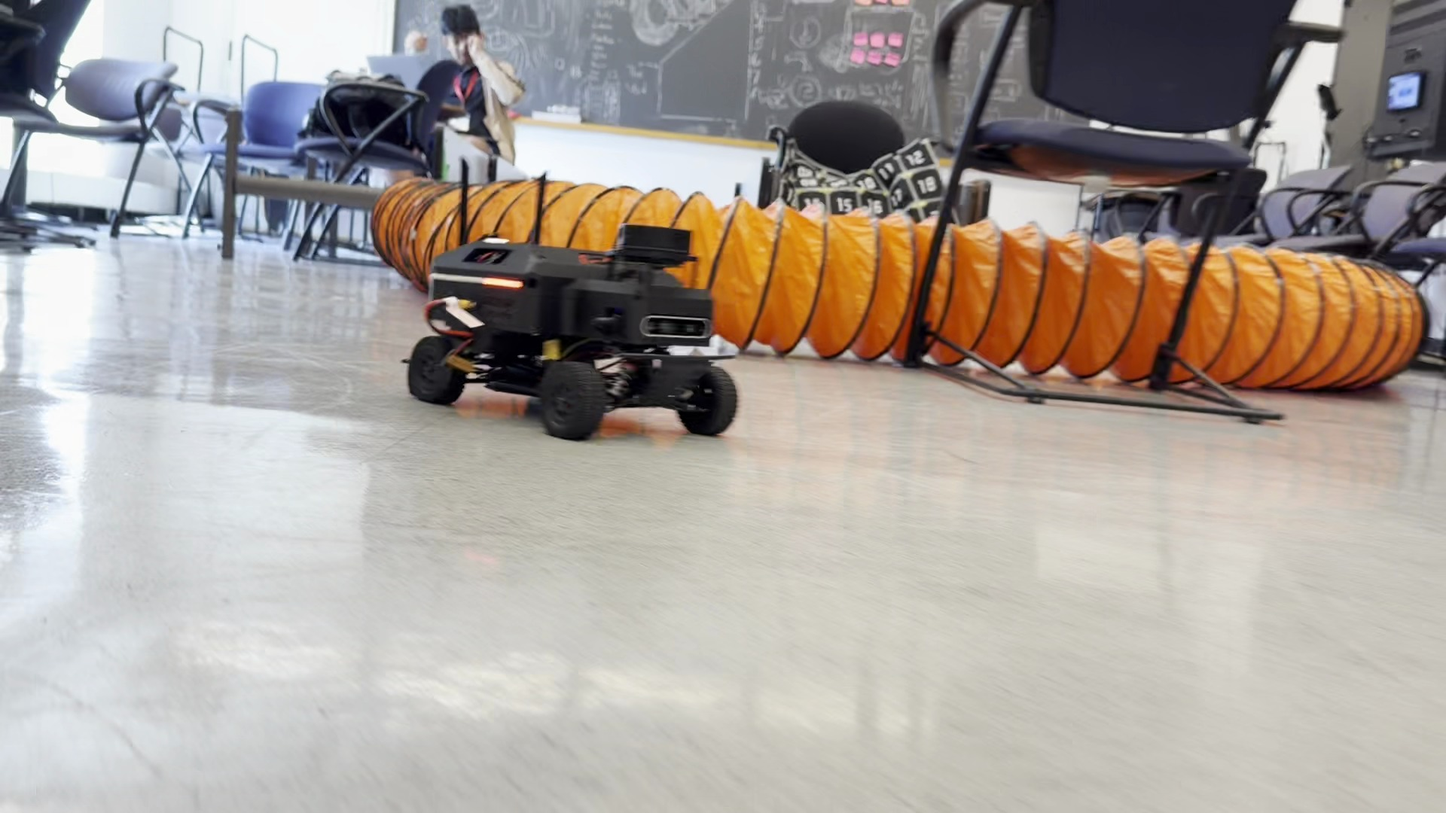racecar: (404, 234, 738, 443)
